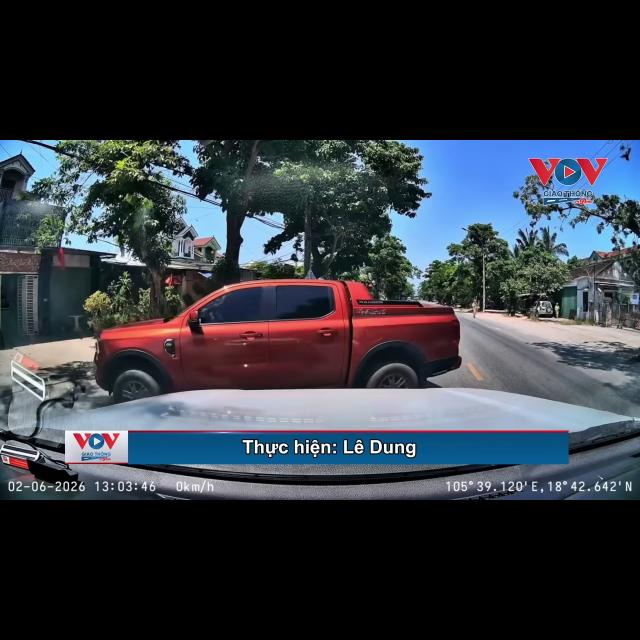car: (95, 280, 460, 402), (529, 301, 553, 316)
